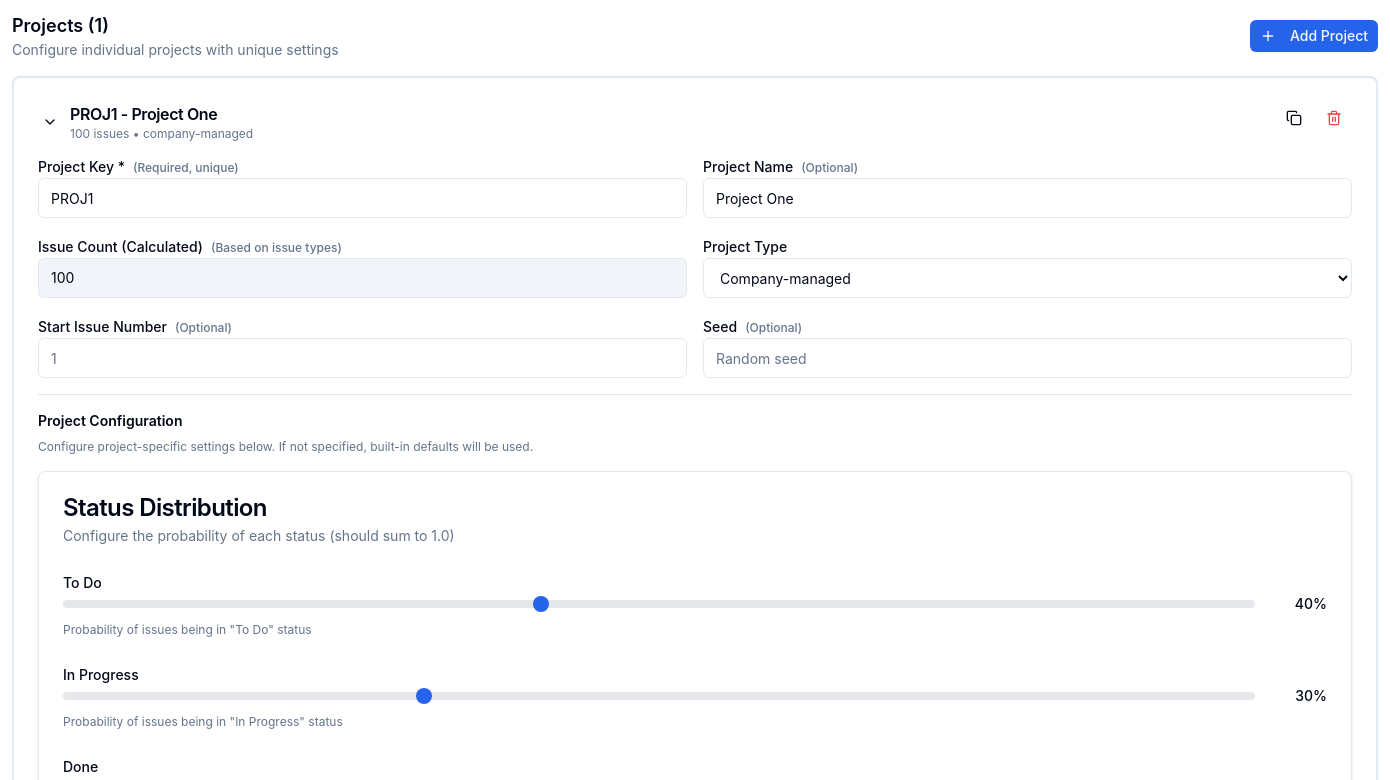
it: ProjectsManager › toggles project expansion
Expected: the field showing "PROJ1" is shown, [38,178,687,218]
# Collapse first project
Click the 2nd button: (50, 122) [38,110,62,134]
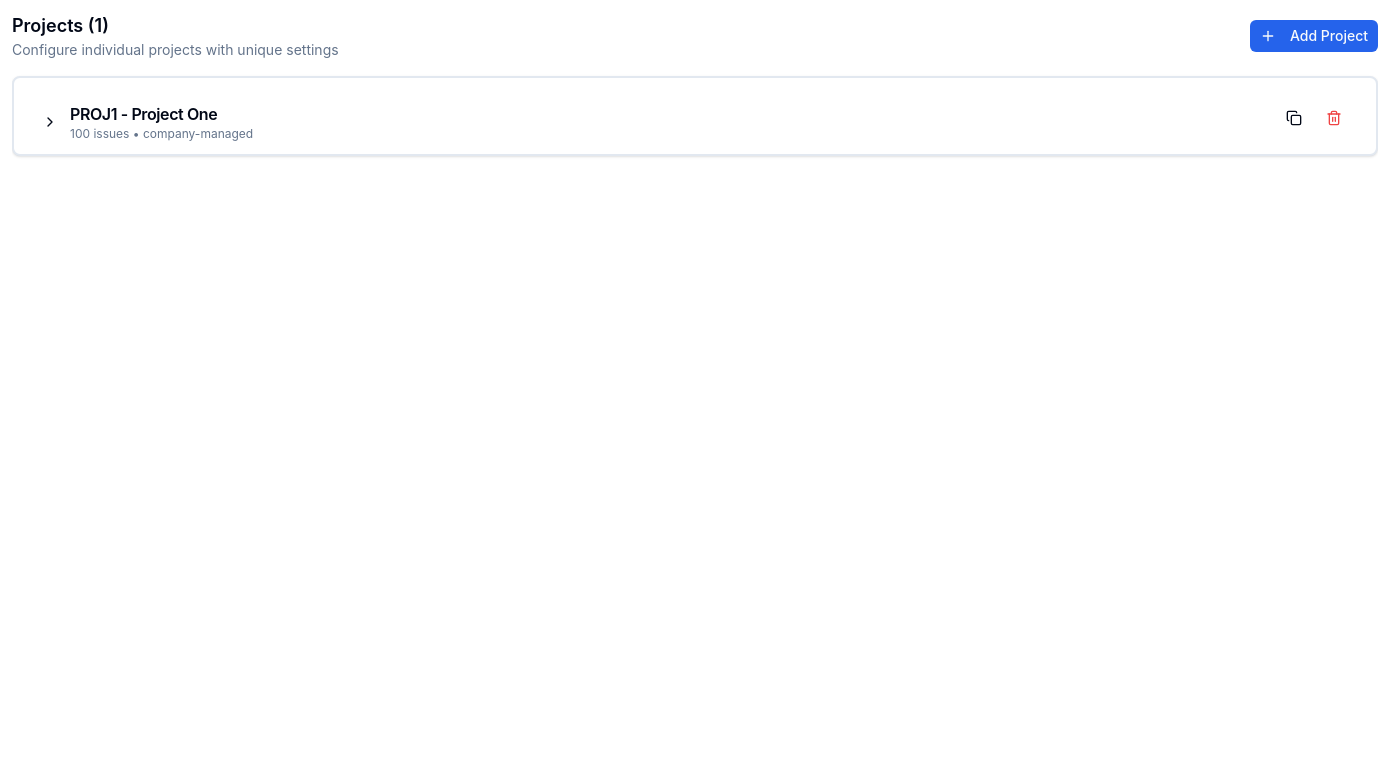
# Expand again
Click the 2nd button: (50, 122) [38,110,62,134]
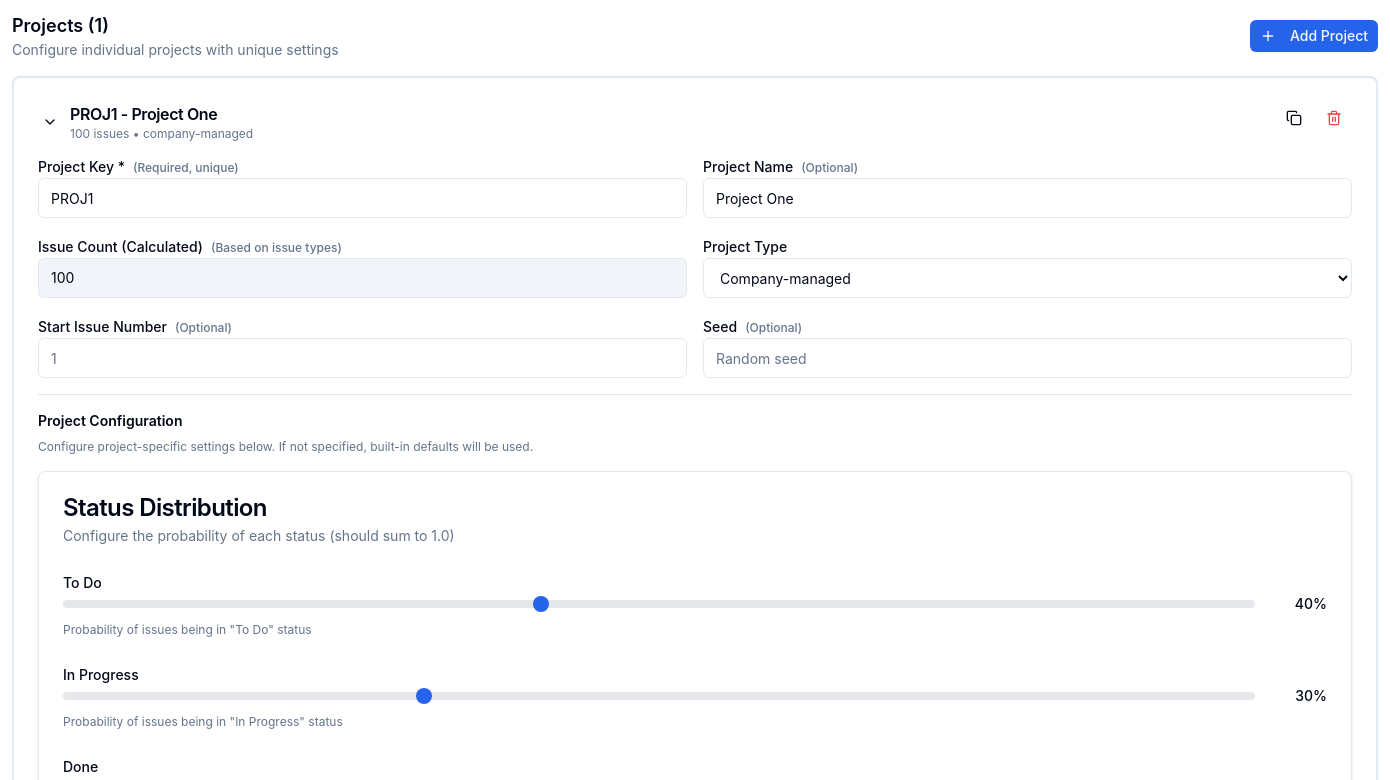
Now the field showing "PROJ1" is shown, box [38,178,687,218]
